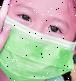with_mask: (1, 2, 76, 81)
